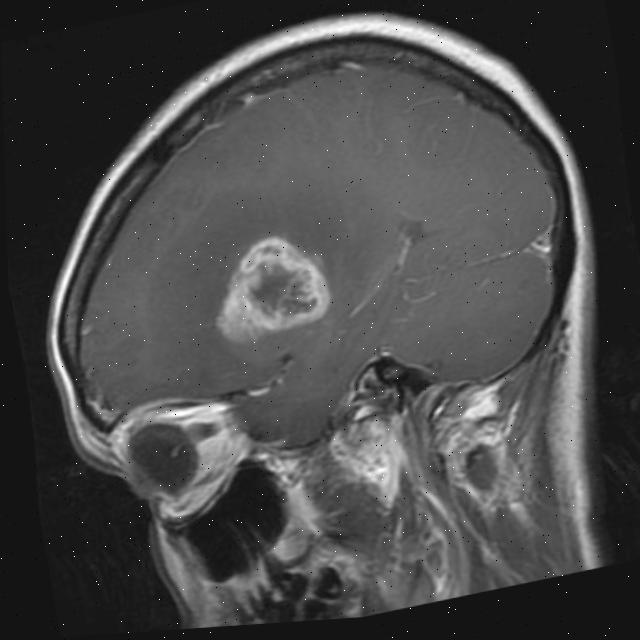Glioma: (202, 224, 336, 347)
